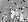person: (13, 10, 20, 20), (22, 8, 27, 21)
